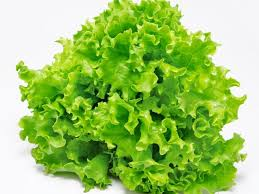lettuce: (13, 1, 246, 194)
